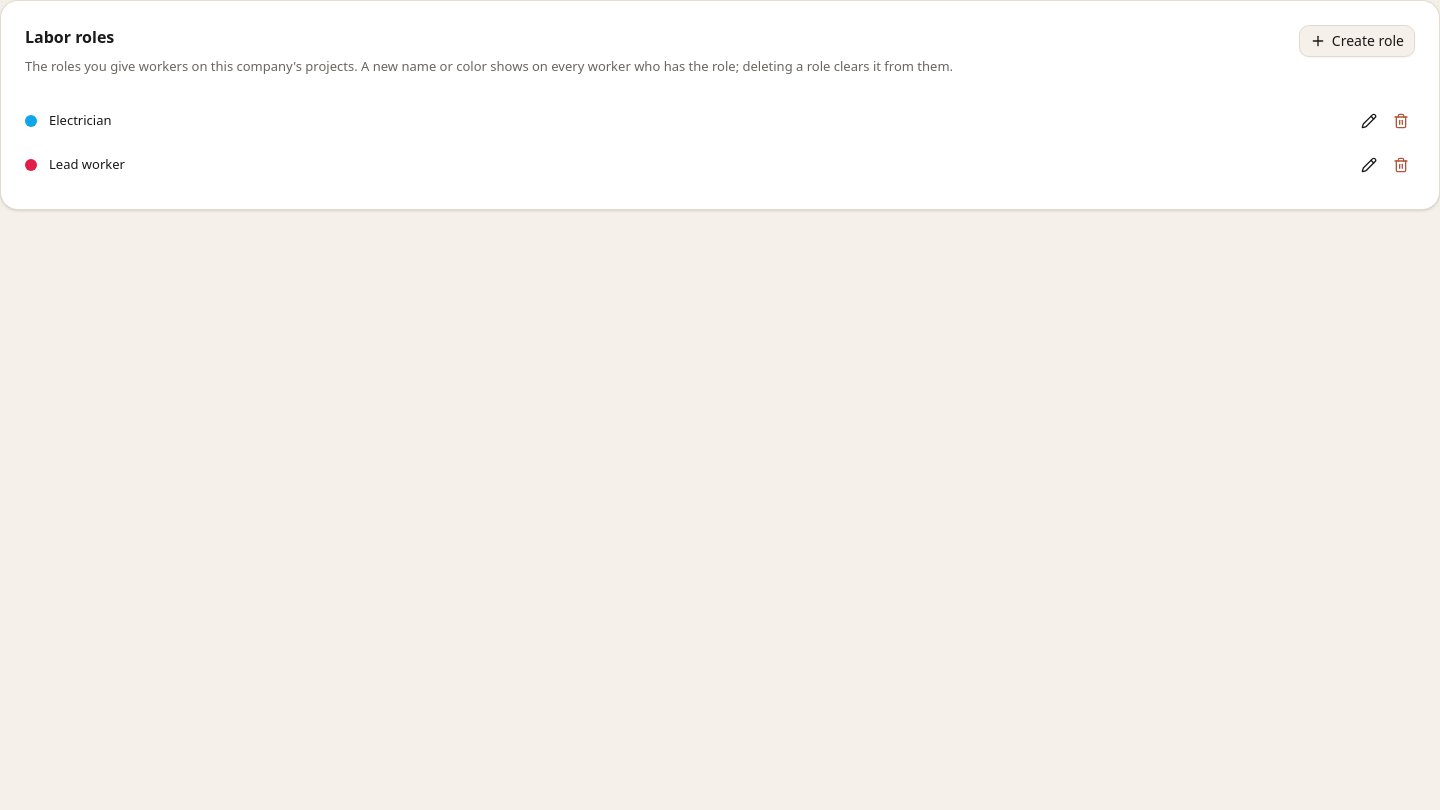
Scenario: CompanyLaborRolesCard › deletes a role after confirmation
Expected: the text "Electrician" is shown, top-left (49, 111), bottom-right (112, 129)
Click the button named "Delete Electrician": (1401, 120) top-left (1387, 106), bottom-right (1415, 134)
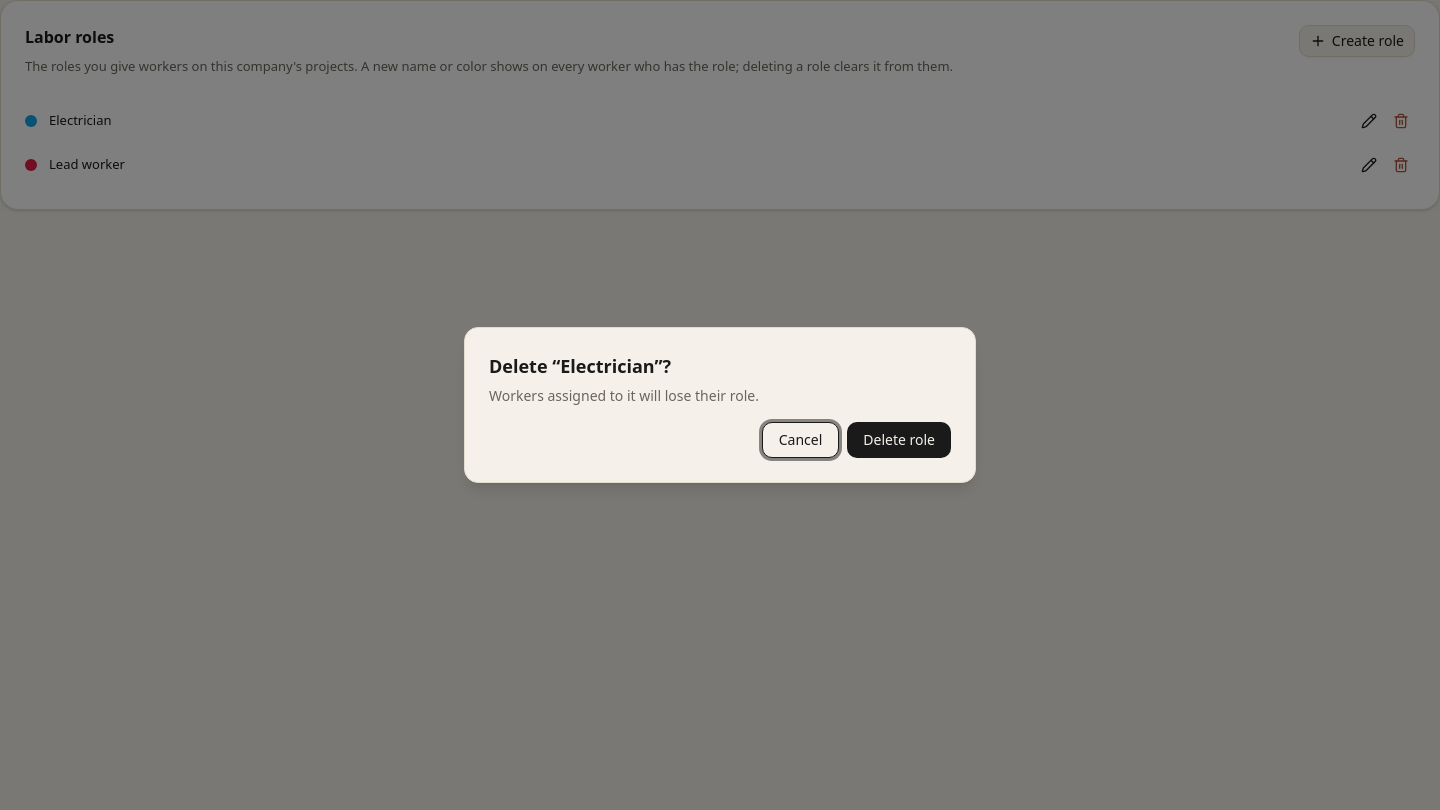
Now the text "Workers assigned to it will lose their role." is shown, box top-left (489, 386), bottom-right (759, 406)
Click the button "Delete role": (899, 440) top-left (847, 422), bottom-right (951, 458)
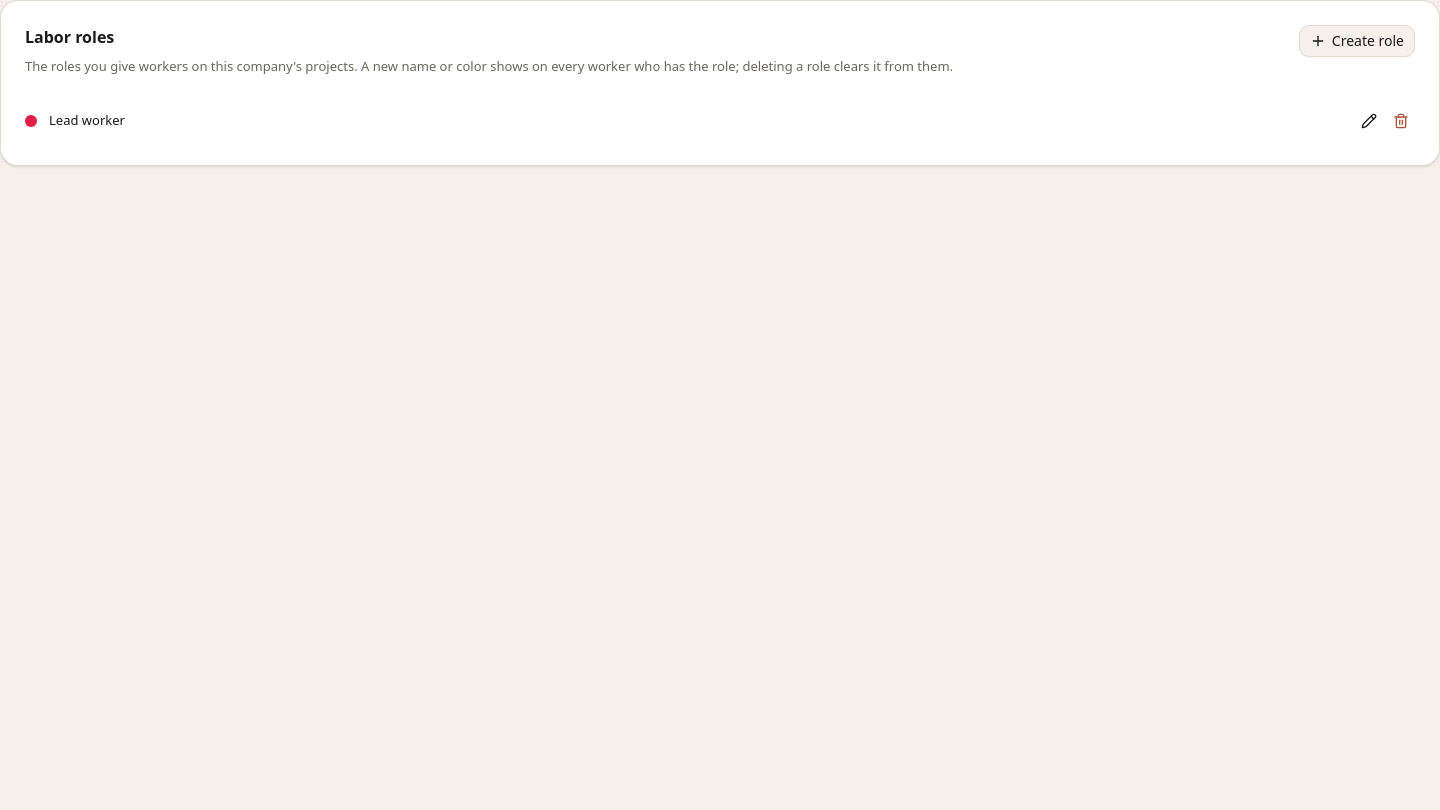
Now the text "Electrician" is gone
